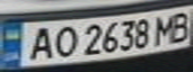2: (78, 20, 106, 56)
3: (118, 17, 139, 52)
6: (103, 19, 124, 54)
8: (133, 16, 157, 50)
A: (21, 25, 57, 61)
B: (166, 8, 193, 43)
M: (151, 11, 178, 46)
O: (48, 24, 81, 60)
